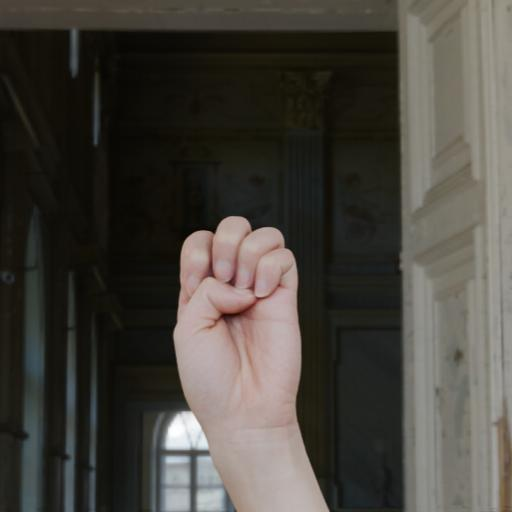E: (150, 208, 328, 512)
